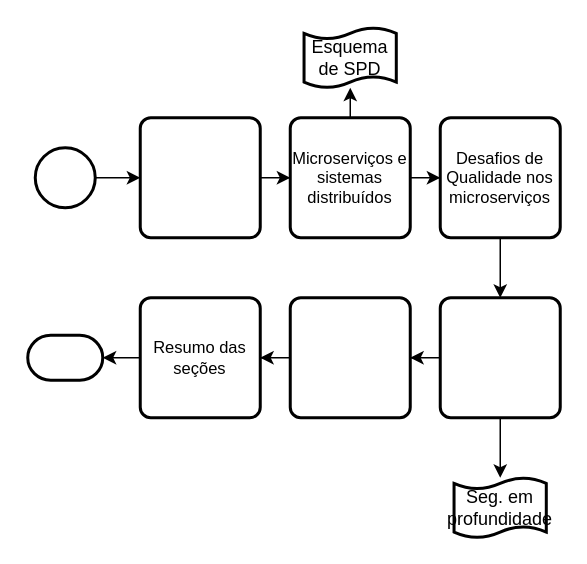
Image size: 587x564. Some labels were removed from this diagram. The shapes that lost their labels are listed below. From the top down, each one's centre as x and y in pixels, then its label:
At (x=199, y=177): "Arquitetura e metodologias ágeis".
At (x=349, y=357): "Objetivos".
At (x=499, y=357): "Desafios e vantagens de Segurança nos microserviços".
